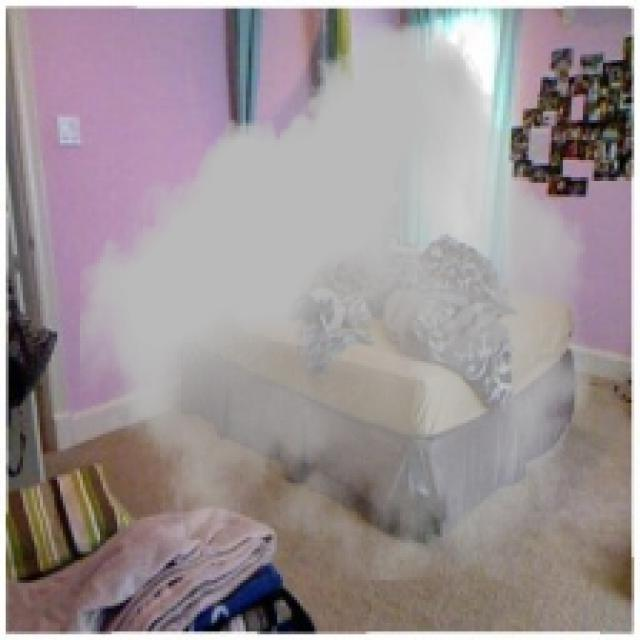Smoke: (80, 23, 594, 580)
